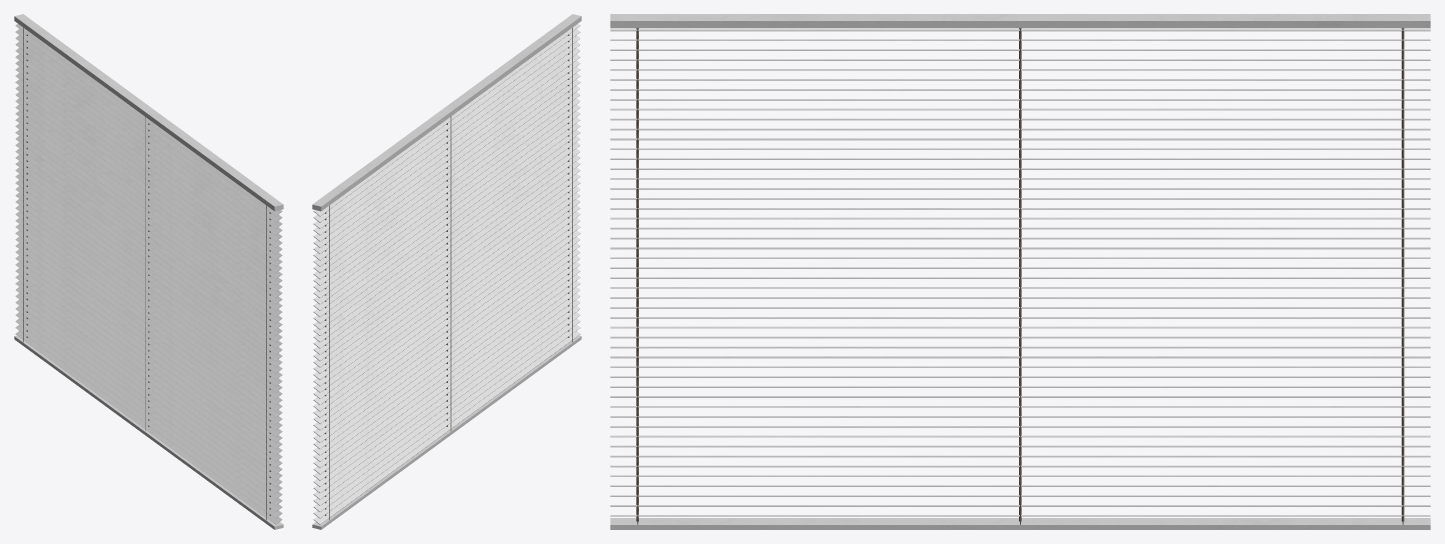
The model's file is SM_Blinds_01.fbx.
3 renders of one model, left to right at view 1: azimuth 30°, elevation 25°; view 2: azimuth 150°, elevation 25°; view 3: azimuth 270°, elevation 25°, orthographic. The views are drawn at different scales.
Visible parts, largest first — view 1: SM_Blinds_01_LOD0; view 2: SM_Blinds_01_LOD0; view 3: SM_Blinds_01_LOD0.
Part boxes in pixels (x1,y1,x2,y2): SM_Blinds_01_LOD0: (14, 14, 283, 529); SM_Blinds_01_LOD0: (312, 14, 581, 529); SM_Blinds_01_LOD0: (610, 14, 1430, 529).
Size of the model in its own units: 3 by 150 by 103.
